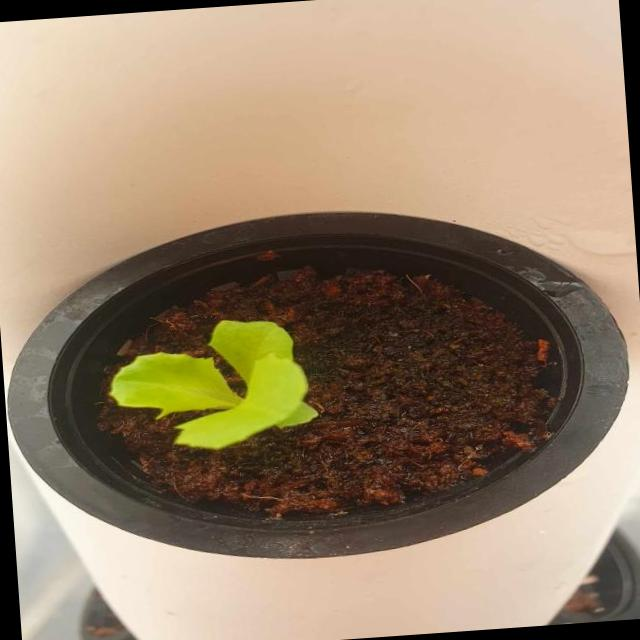Lettuce-Not-Ready-to-Harvest: (110, 320, 318, 448)
